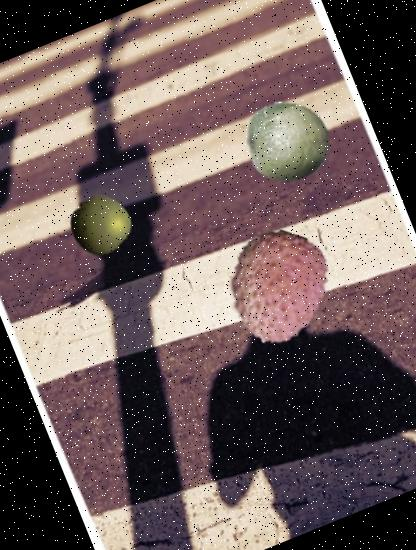Apple: (60, 185, 141, 266)
Limes: (235, 88, 342, 196)
Lychee: (204, 214, 350, 361)
